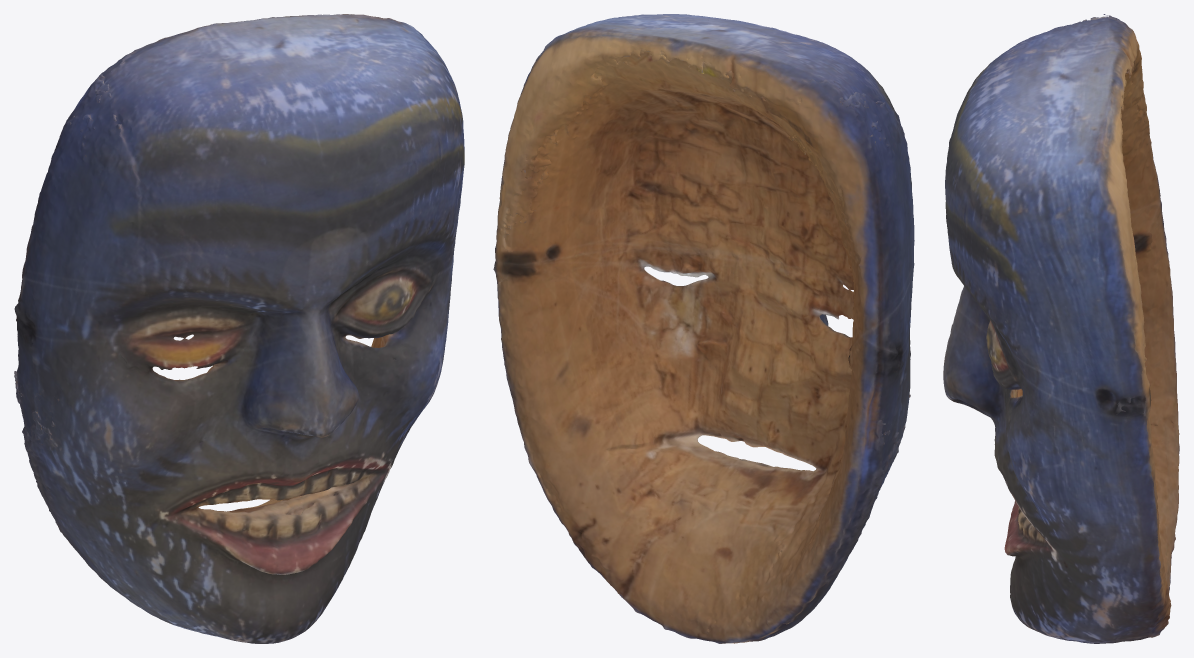
Rendered from sri_lankan_mask.glb.
The picture shows the model from 3 angles, left to right: view 1: azimuth 30°, elevation 25°; view 2: azimuth 150°, elevation 25°; view 3: azimuth 270°, elevation 25°; orthographic projection. The views are drawn at different scales.
Visible parts, largest first — view 1: Object_3, Object_2; view 2: Object_2, Object_3; view 3: Object_2, Object_3.
Part boxes in pixels (left/top/right/bottom): Object_3: left=17, top=28, right=464, bottom=643; Object_2: left=14, top=14, right=464, bottom=640; Object_2: left=493, top=14, right=914, bottom=643; Object_3: left=508, top=14, right=914, bottom=643; Object_2: left=954, top=15, right=1179, bottom=643; Object_3: left=943, top=14, right=1164, bottom=642.
Bounding box in the file's own units: 1.35 × 1.86 × 0.6928.
1 material, 1 textured.
